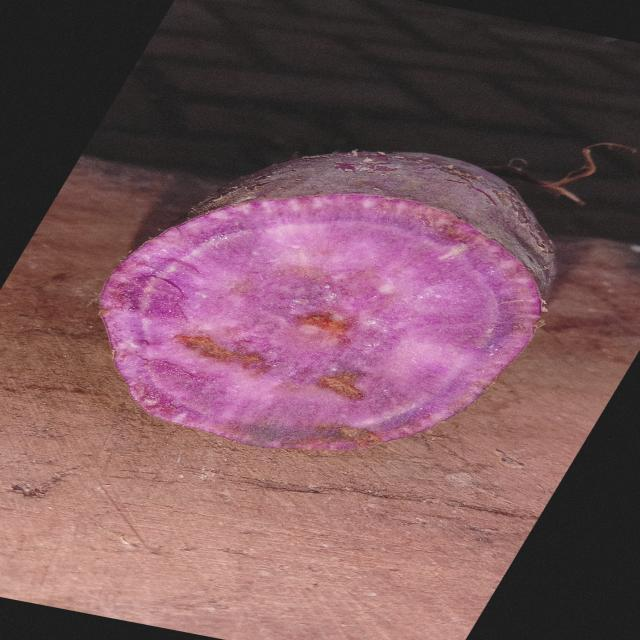Sick Sweet Potato_Tuber Rot: (102, 195, 540, 450)
